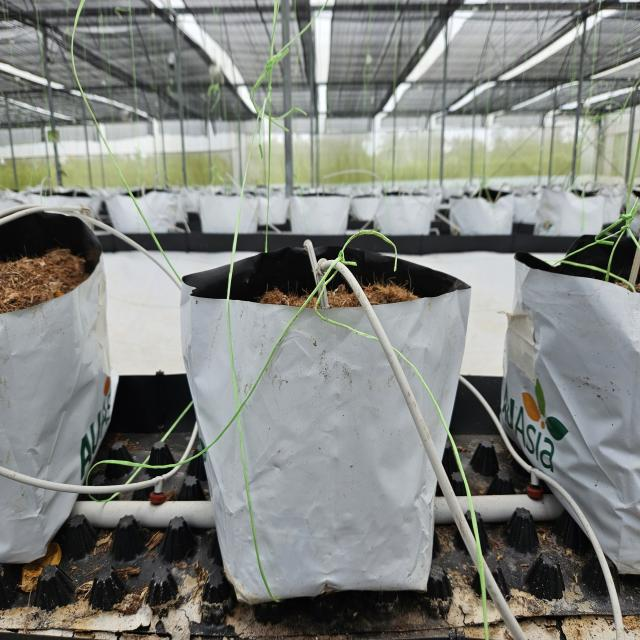Obstacle: (308, 246, 534, 639)
Soilbag: (181, 237, 473, 597)
